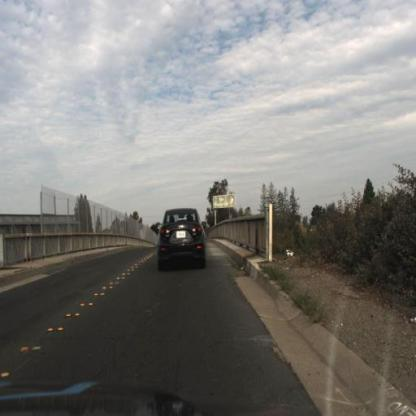car: (151, 194, 215, 278), (280, 244, 296, 266)
